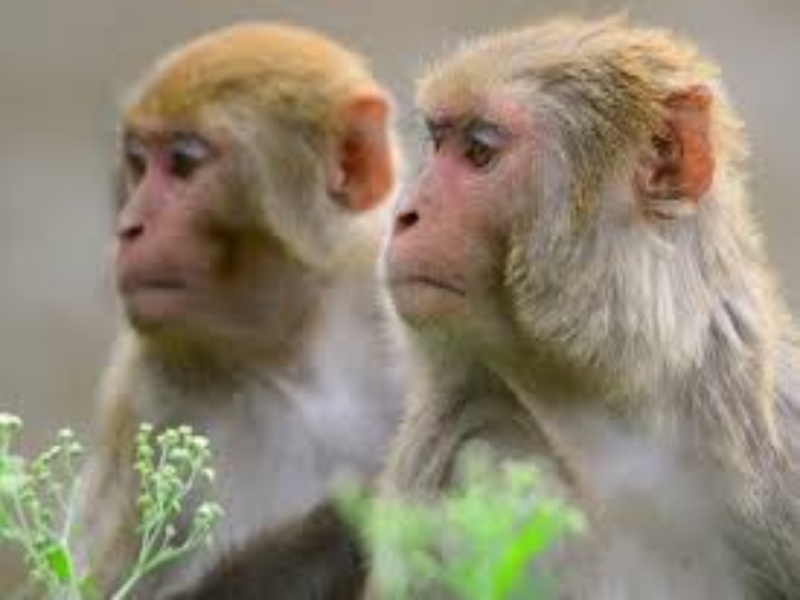monkey: (359, 23, 800, 463), (78, 22, 399, 343)
